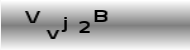2: (78, 20, 91, 32)
B: (93, 8, 108, 22)
V: (25, 9, 40, 23)
j: (61, 15, 68, 32)
v: (46, 28, 59, 39)
